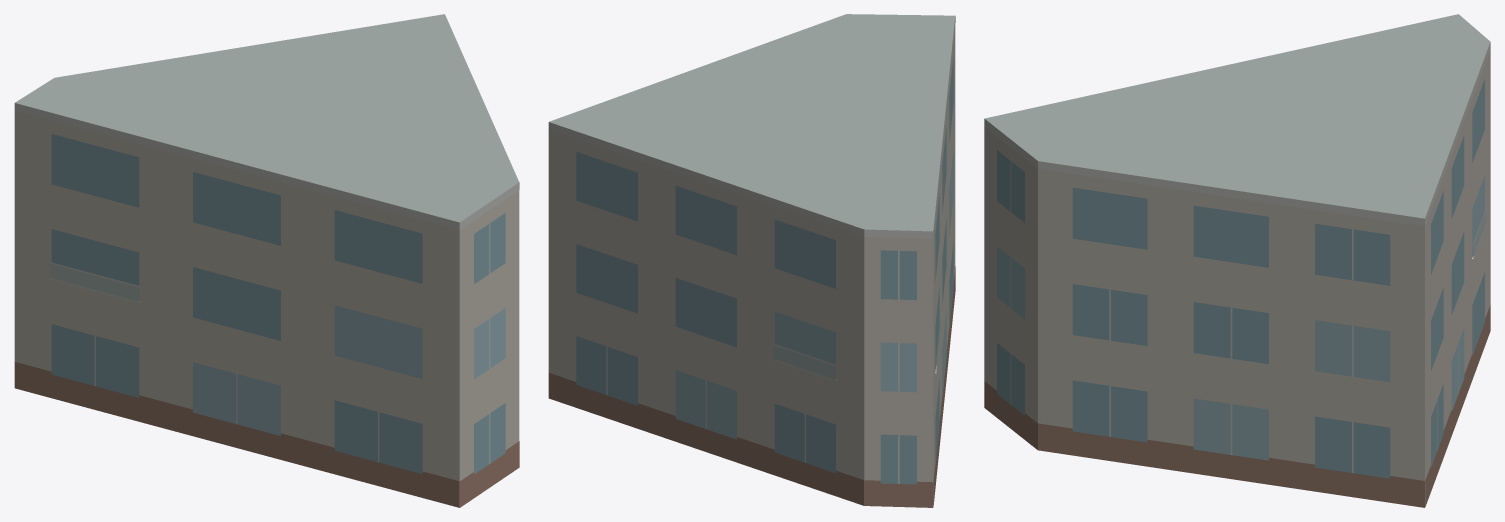
File: survey-upis-32801826.glb
3 renders of one model, left to right at view 1: azimuth 30°, elevation 25°; view 2: azimuth 150°, elevation 25°; view 3: azimuth 270°, elevation 25°, orthographic. The views are drawn at different scales.
Parts seen in each view (by area): view 1: survey-upis-32801826.tmp; view 2: survey-upis-32801826.tmp; view 3: survey-upis-32801826.tmp.
Boxes of the visible parts, x1,y1,x2,y2 form: survey-upis-32801826.tmp: [14, 14, 519, 507]; survey-upis-32801826.tmp: [548, 14, 955, 507]; survey-upis-32801826.tmp: [984, 14, 1490, 507].
Bounding box in the file's own units: 13.89 × 9.15 × 14.52.
